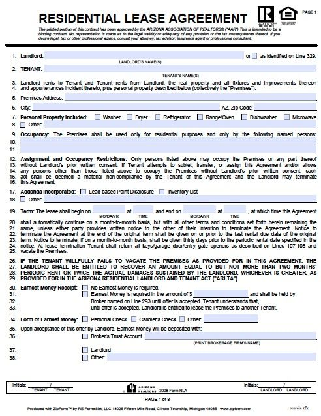checkbox: (239, 112, 249, 121), (80, 346, 91, 353), (80, 353, 89, 361), (93, 113, 102, 121), (153, 113, 162, 121), (250, 52, 259, 60), (178, 314, 185, 324), (79, 188, 87, 196), (158, 188, 166, 196), (125, 113, 133, 121), (283, 113, 291, 121), (80, 333, 89, 340), (129, 316, 138, 323), (82, 315, 89, 323), (196, 113, 203, 121), (82, 290, 89, 297), (82, 284, 89, 291), (20, 196, 26, 203), (20, 121, 26, 128)
textline: (63, 92, 319, 104), (42, 63, 318, 74), (43, 119, 318, 130), (18, 138, 319, 147), (42, 49, 244, 62), (43, 195, 318, 204), (18, 147, 318, 155), (106, 353, 318, 364), (31, 102, 220, 113), (143, 331, 318, 342), (192, 288, 248, 301), (202, 313, 260, 325), (253, 102, 318, 112), (260, 382, 312, 390), (91, 205, 126, 215), (26, 382, 72, 389), (181, 207, 217, 215), (222, 206, 248, 215), (132, 205, 155, 215)
